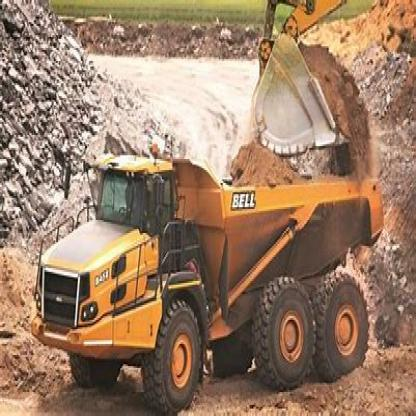dump_truck: (36, 139, 382, 412)
